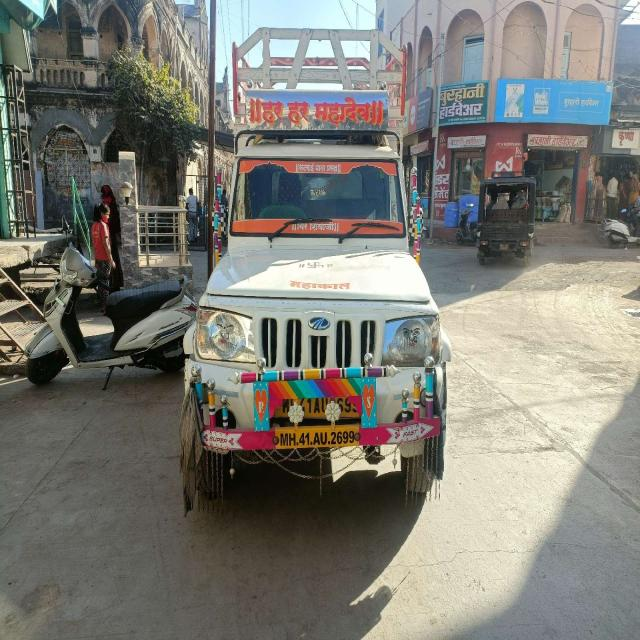light_vehicle: (182, 140, 448, 466)
